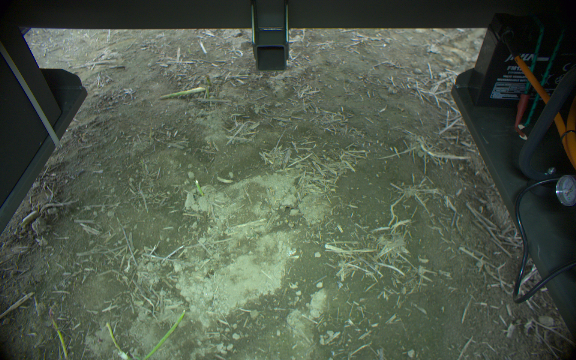aspa: (138, 308, 189, 360), (43, 309, 76, 360), (158, 82, 215, 103), (102, 321, 127, 360), (190, 177, 205, 200)
